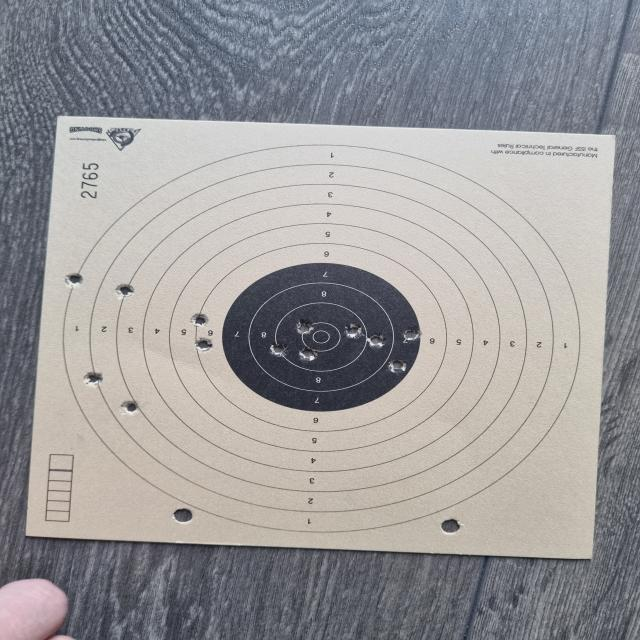1: (63, 273, 83, 288)
10: (295, 320, 314, 334), (299, 347, 317, 360)
2: (82, 372, 102, 386)
3: (120, 401, 140, 415), (115, 284, 134, 298)
6: (189, 313, 209, 327), (194, 338, 212, 352)
7: (388, 359, 407, 373), (402, 328, 420, 341)
8: (366, 334, 386, 347)
9: (342, 324, 363, 338), (270, 343, 288, 356)
Target: (63, 142, 586, 533)
black_contour: (222, 263, 419, 414)
